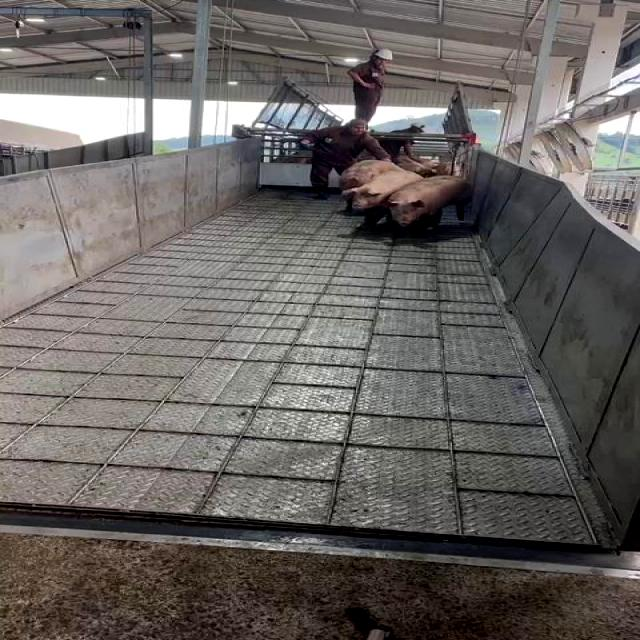pig: (390, 175, 472, 229), (344, 169, 424, 209), (339, 160, 403, 191)
